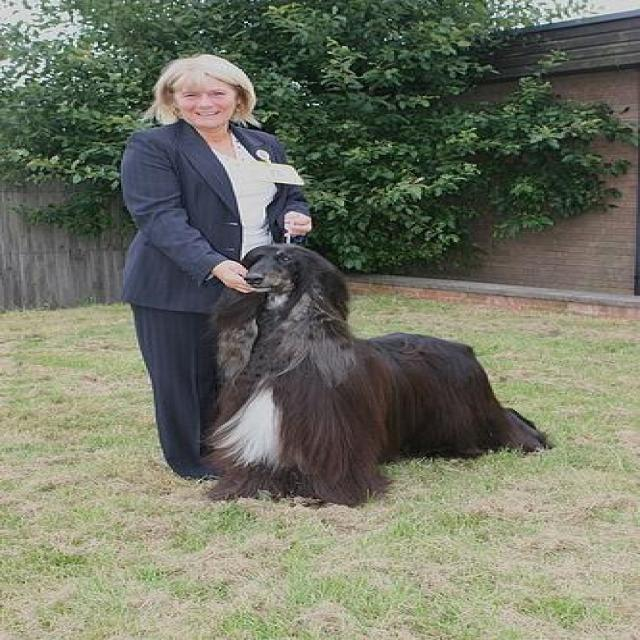afghan_hound: (206, 243, 559, 507)
